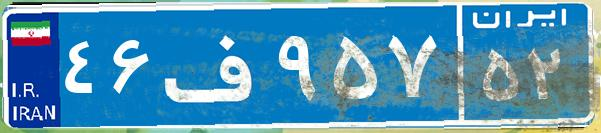2: (525, 38, 570, 115)
4: (57, 26, 110, 107)
5: (330, 28, 385, 110), (475, 38, 525, 113)
6: (110, 28, 158, 105)
7: (385, 28, 445, 110)
9: (273, 28, 330, 110)
ف: (158, 15, 273, 115)
